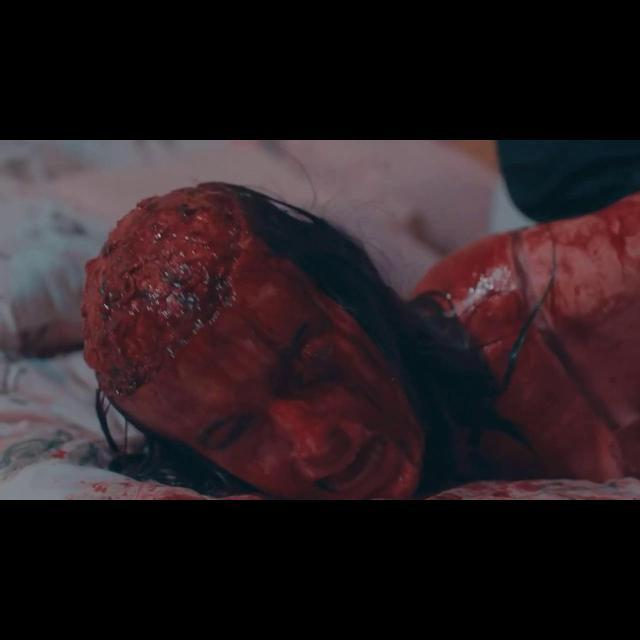blood: (82, 188, 422, 498), (415, 192, 640, 499), (0, 460, 208, 499), (213, 495, 266, 500)
